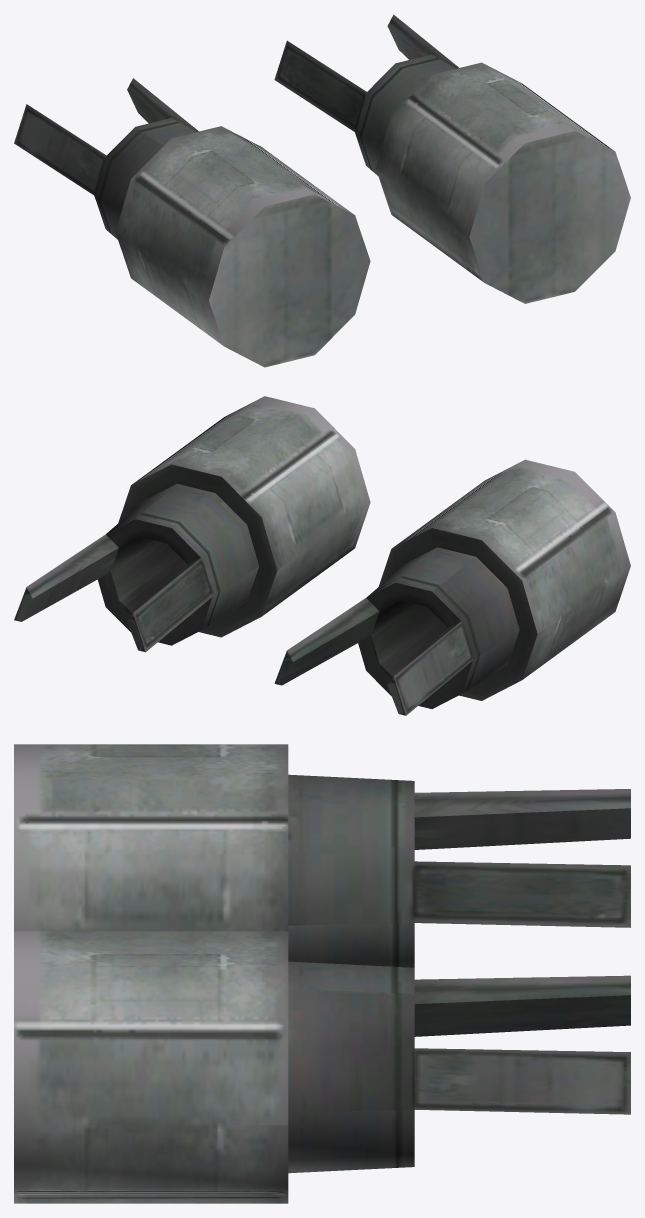
Rendered from black_sun_fighter_medium_booster_s01_l0.fbx.
The picture shows the model from 3 angles, top to bottom: view 1: azimuth 30°, elevation 25°; view 2: azimuth 150°, elevation 25°; view 3: azimuth 270°, elevation 25°; orthographic projection. The views are drawn at different scales.
Visible parts, largest first — view 1: mesh_node; view 2: mesh_node; view 3: mesh_node.
Boxes of the visible parts, x1,y1,x2,y2 form: mesh_node: (14,14,630,367); mesh_node: (14,396,630,715); mesh_node: (14,744,630,1203).
Size of the model in its own units: 5.22 by 1.9 by 4.5.
Materials: 1 (1 with a texture image).
